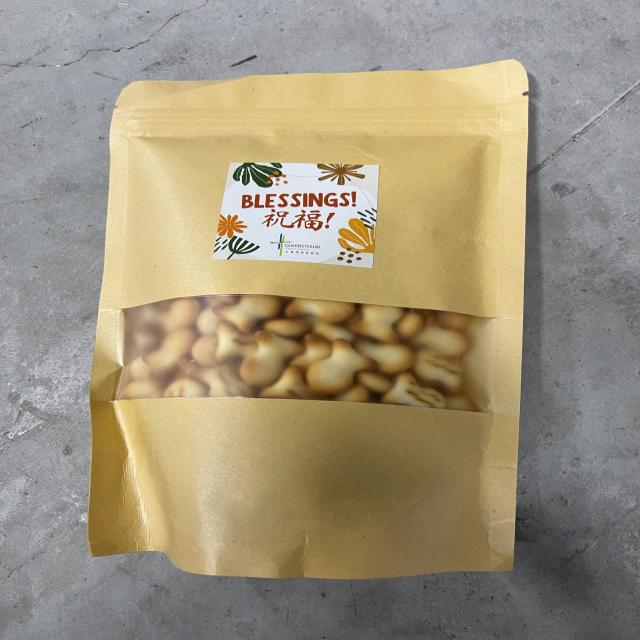object_name: (106, 89, 523, 561)
